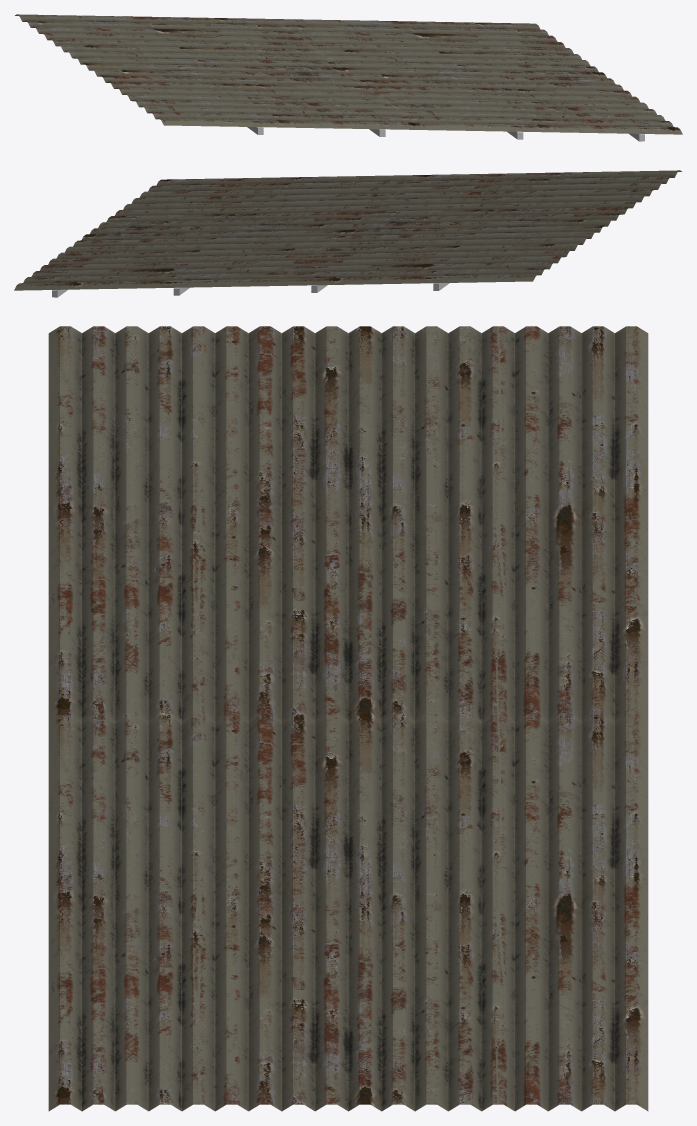
File: Metal_Roof_2X.fbx
3 views of the same model, one above another, from view 1: azimuth 30°, elevation 25°; view 2: azimuth 150°, elevation 25°; view 3: azimuth 270°, elevation 25° (orthographic). The views are drawn at different scales.
Parts seen in each view (by area): view 1: Metal_Roof_2X; view 2: Metal_Roof_2X; view 3: Metal_Roof_2X.
Boxes of the visible parts, x1,y1,x2,y2 form: Metal_Roof_2X: (15, 14, 682, 141); Metal_Roof_2X: (14, 170, 681, 297); Metal_Roof_2X: (48, 326, 648, 1111).
Bounding box in the file's own units: 8 × 2.05 × 4.
